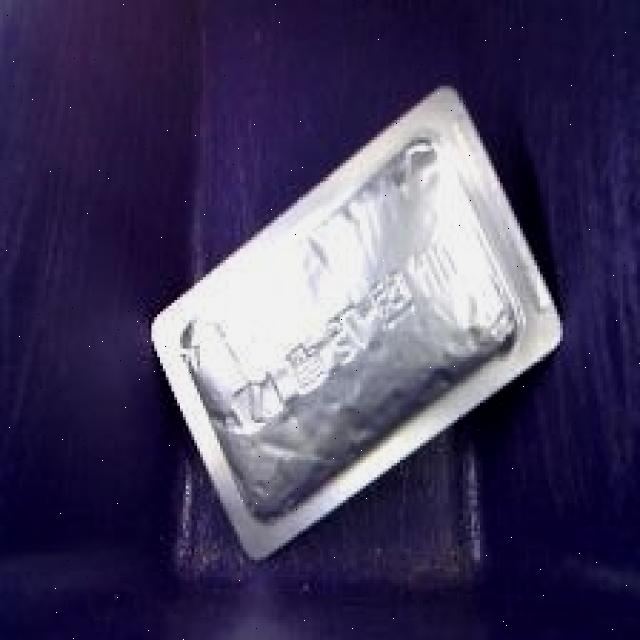med_plate: (135, 64, 584, 574)
